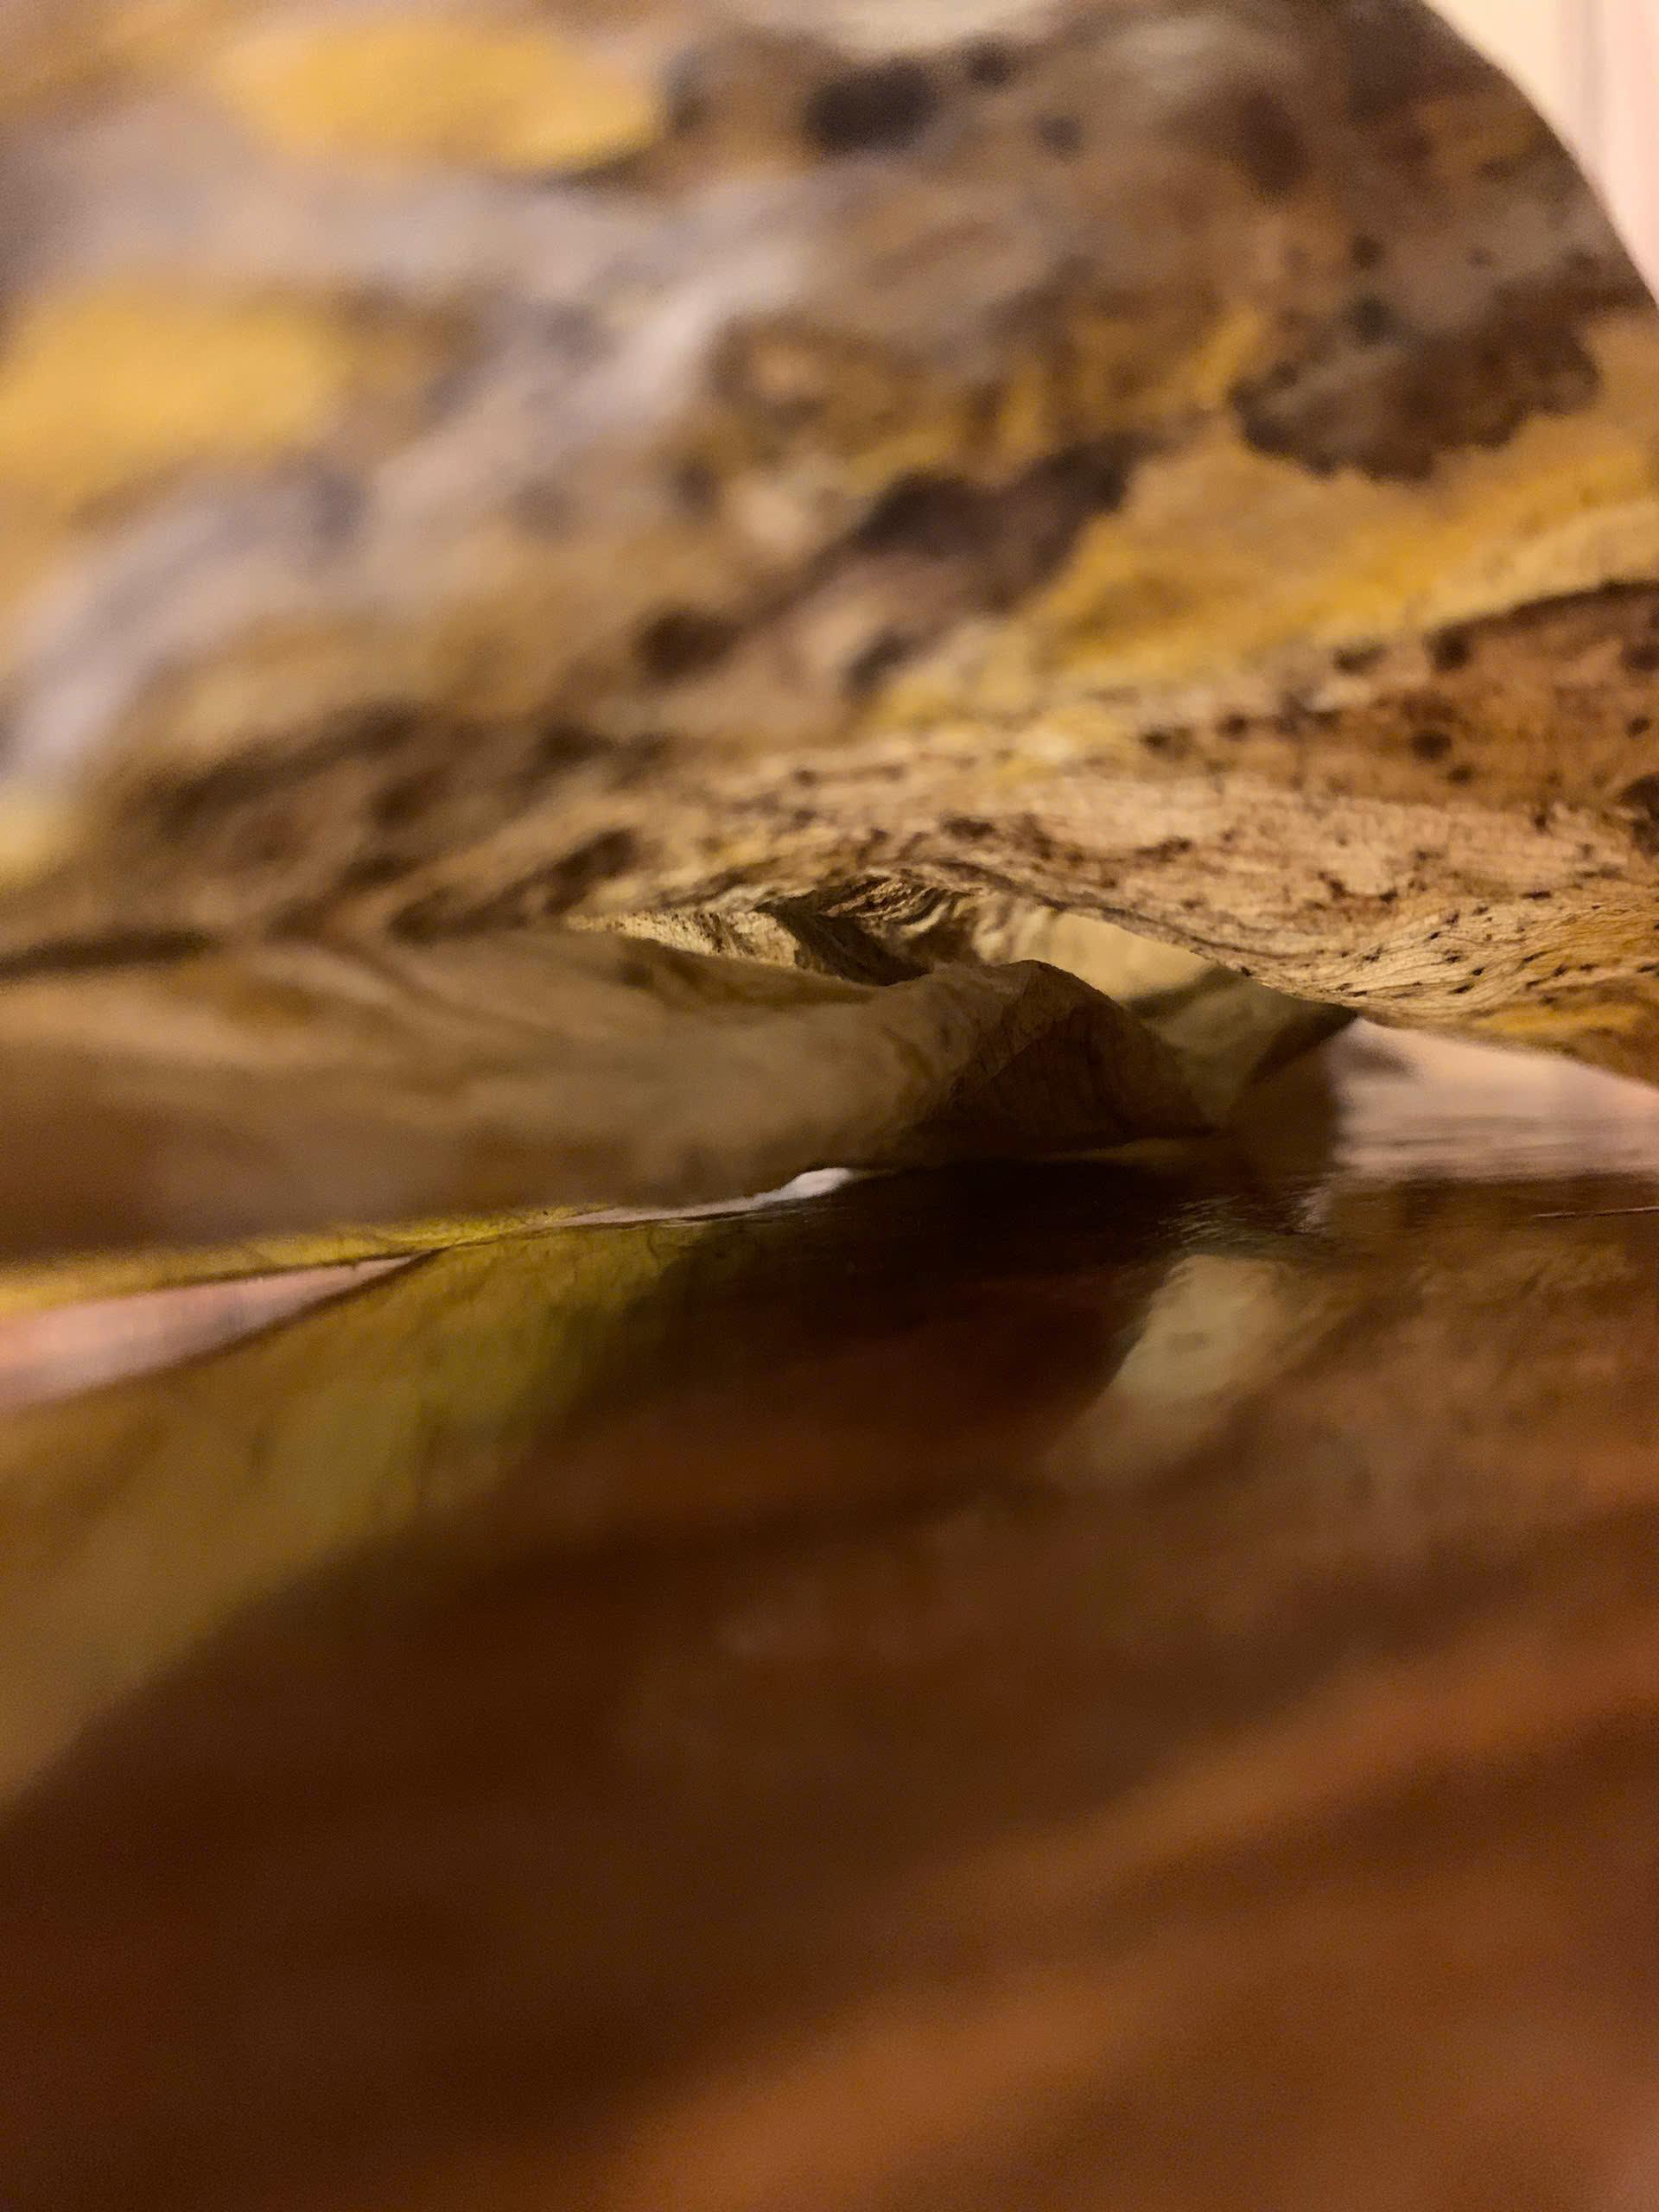Huu co: (64, 131, 1659, 1143)
